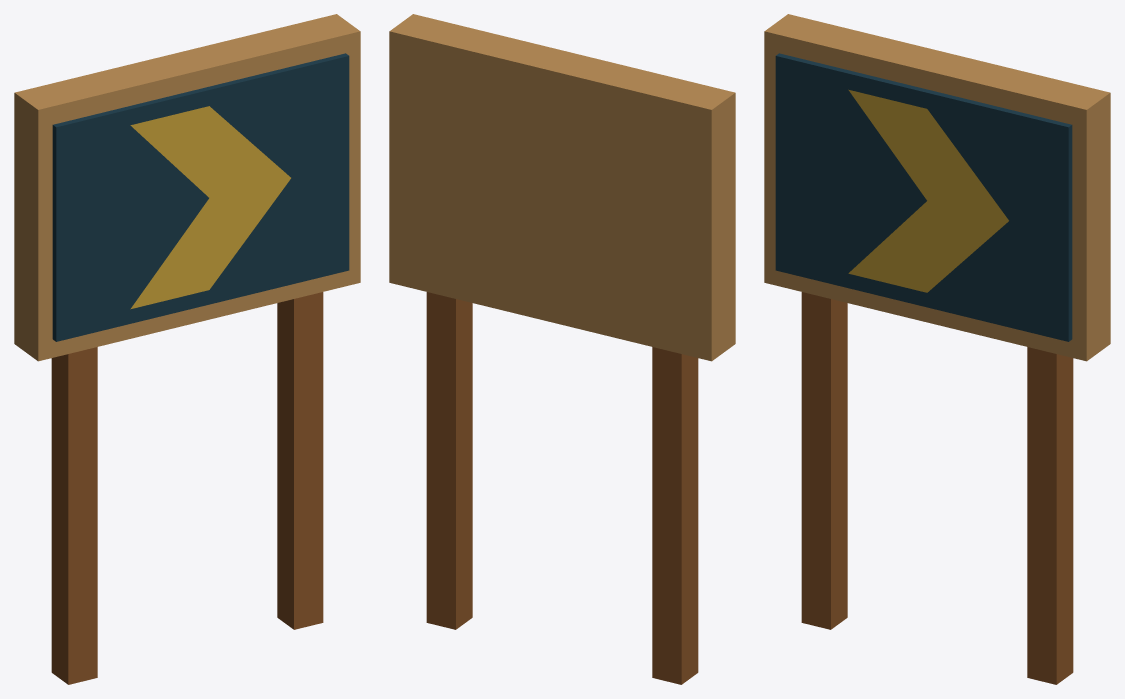
The model's file is corner_arrow_single.glb.
3 renders of one model, left to right at view 1: azimuth 30°, elevation 25°; view 2: azimuth 150°, elevation 25°; view 3: azimuth 330°, elevation 25°, orthographic.
Parts seen in each view (by area): view 1: corner_arrow_single_pc; view 2: corner_arrow_single_pc; view 3: corner_arrow_single_pc.
Boxes of the visible parts, x1,y1,x2,y2 form: corner_arrow_single_pc: [14, 14, 360, 684]; corner_arrow_single_pc: [389, 14, 735, 684]; corner_arrow_single_pc: [764, 14, 1110, 684].
Bounding box in the file's own units: 1.1 × 1.91 × 0.165.
